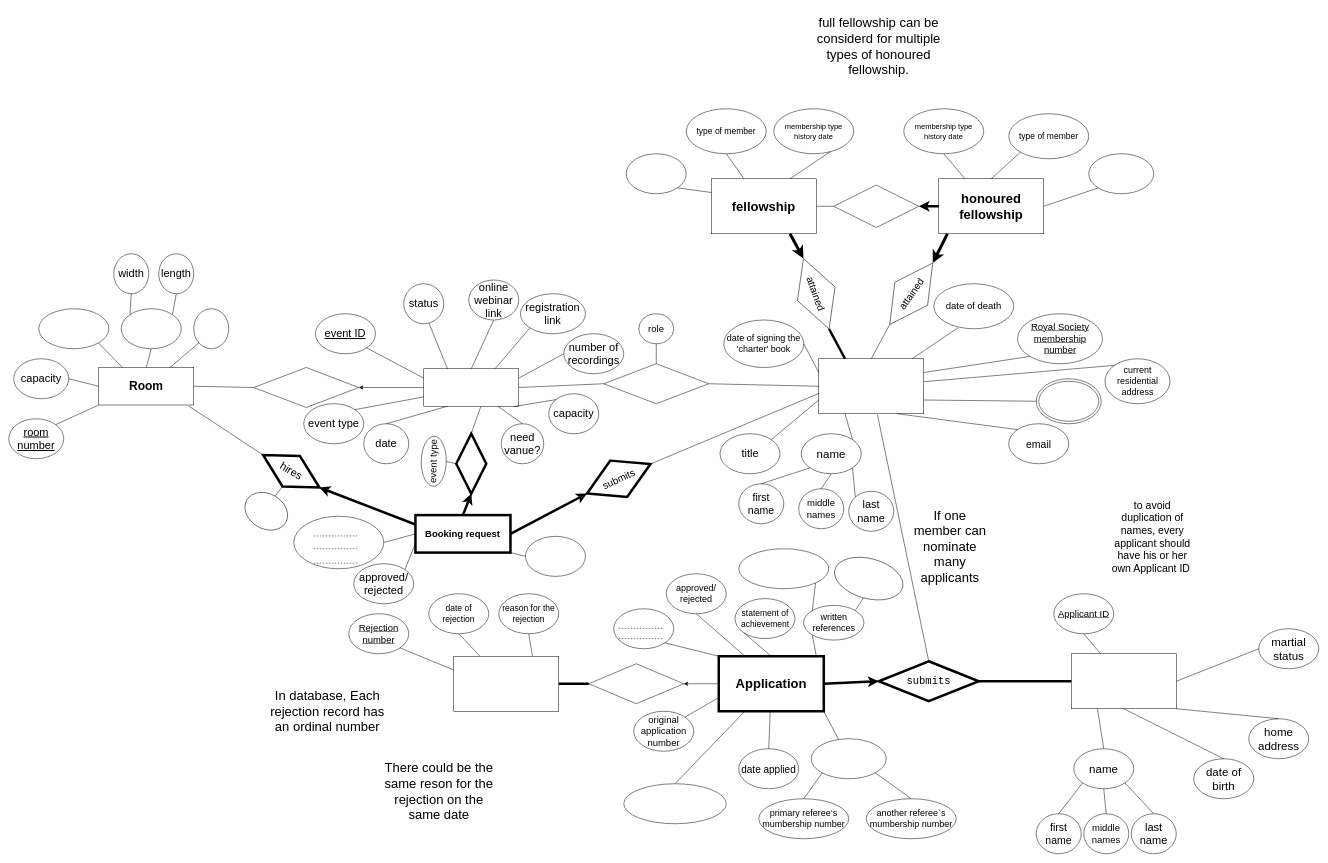
Some shapes in this 1328 by 863 pixel diagram are drawn without their labels. The shapes that lost their labels are listed below. From the top down, each one's centre as x and y in pixels, then its label:
At point 656,173: "fellowship serial number".
At point 1121,173: "honoured fellowship serial number".
At point 876,206: "be considerd for".
At point 73,328: "layout setting".
At point 151,328: "dimensions".
At point 211,328: "floor".
At point 306,387: "be conducted in".
At point 471,387: "Event".
At point 656,383: "organizes".
At point 871,386: "Member of Royal Society".
At point 1068,401: "phone numbers".
At point 471,463: "depends on".
At point 266,511: "availability".
At point 338,542: "Booking request number".
At point 555,556: "booking rate".
At point 783,568: "primary referee's written reference".
At point 868,578: "second referee's written reference".
At point 643,628: "Application number".
At point 506,683: "Rejection categories".
At point 636,683: "be rejected as".
At point 1123,681: "Applicant".
At point 848,758: "IDs of nominating memberes".
At point 674,803: "date and time the applicant was approved".
